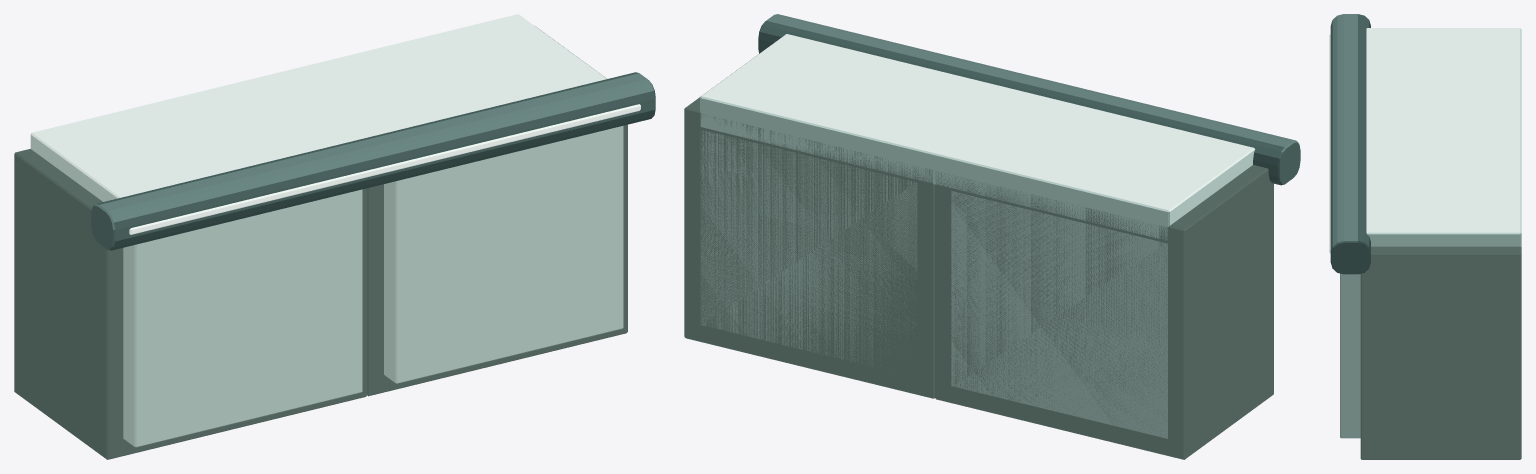
The model's file is Terrain_TopRun2LR.gltf.
3 views of the same model, side by side, from view 1: azimuth 30°, elevation 25°; view 2: azimuth 150°, elevation 25°; view 3: azimuth 270°, elevation 25° (orthographic). The views are drawn at different scales.
Visible parts, largest first — view 1: Terrain_TopRun2LR_baked; view 2: Terrain_TopRun2LR_baked; view 3: Terrain_TopRun2LR_baked.
Boxes of the visible parts, left/top/right/bottom form: Terrain_TopRun2LR_baked: left=14, top=14, right=655, bottom=459; Terrain_TopRun2LR_baked: left=684, top=14, right=1300, bottom=459; Terrain_TopRun2LR_baked: left=1329, top=14, right=1521, bottom=459.
Bounding box in the file's own units: 2.08 × 0.9495 × 0.74.
